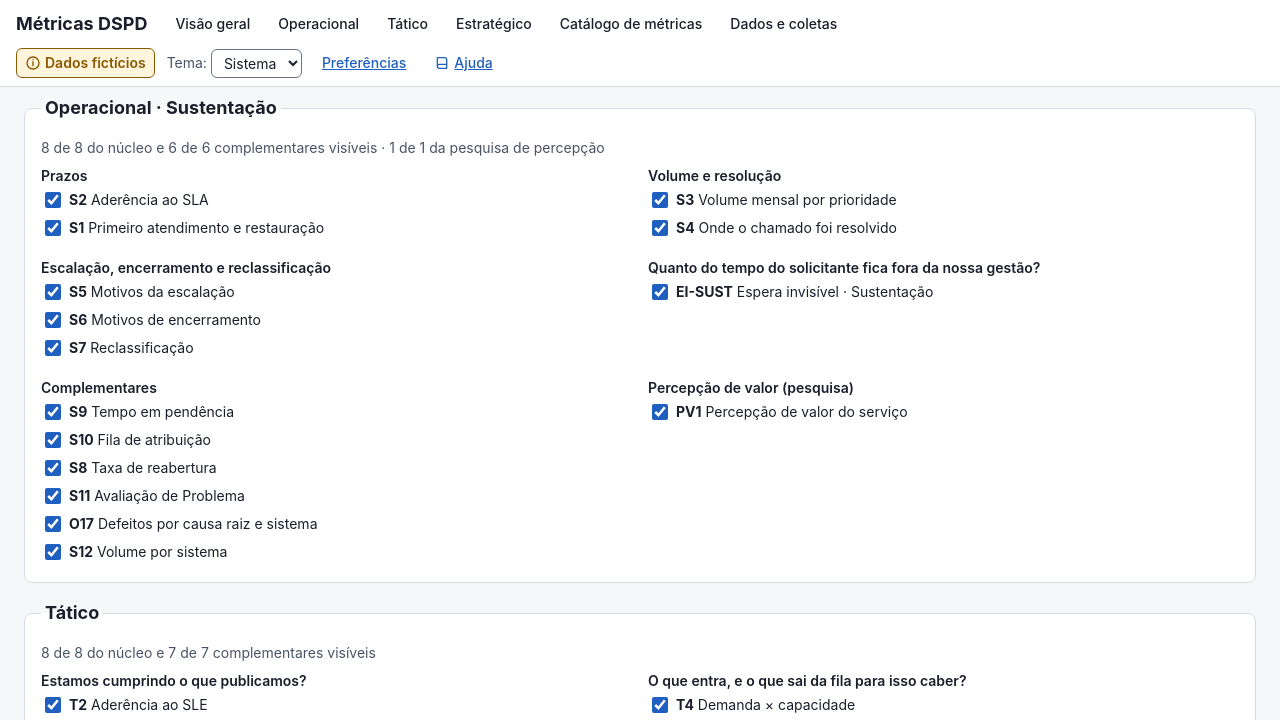
Test case: Preferências com a PV1 › o grupo "Percepção de valor" lista a PV1 só na Sustentação e o contador de cartões fecha
The image size is (1280, 720).
(page scrolled)
Check: the element "Percepção de valor (pesquisa)" is shown, box [648,379,908,420]
Check: the text with test id "contador-sustentacao" shows "1 de 1 da pesquisa de percepção", box [377,139,605,156]
Step 1. Click the checkbox labelled "PV1 Percepção de valor do serviço" → (660, 412), box [652,404,668,420]
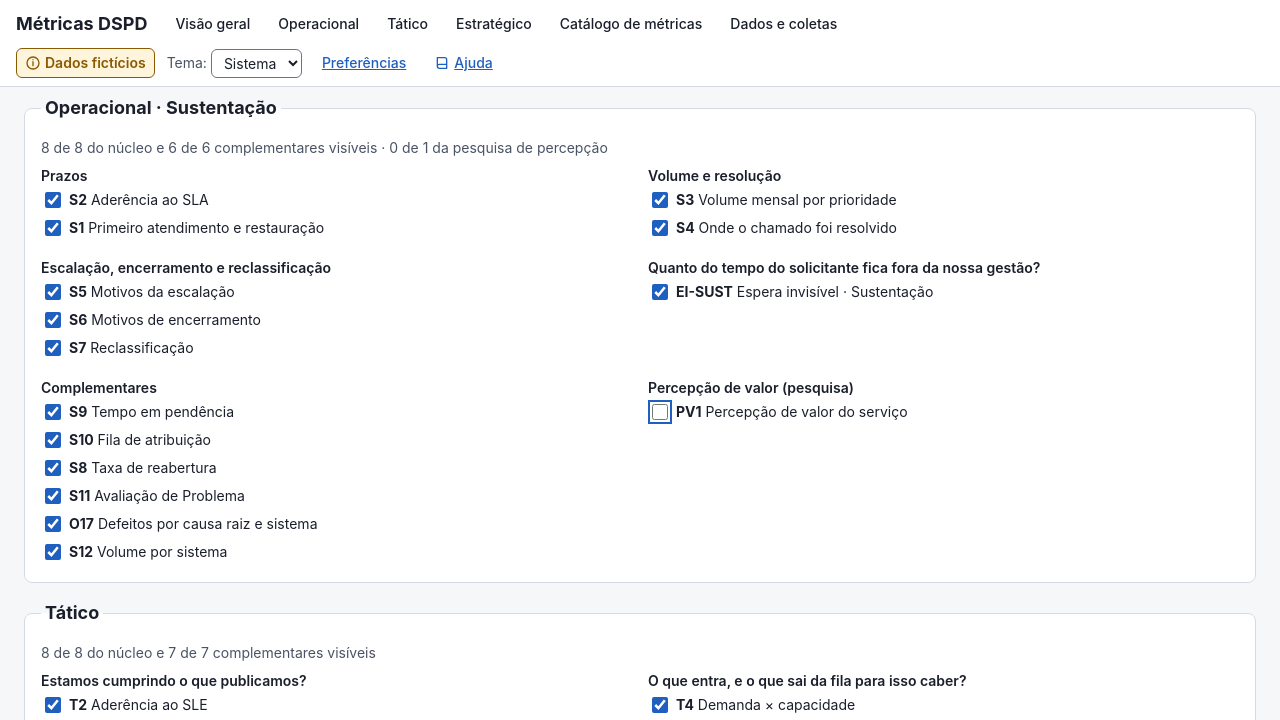
Check: the text with test id "contador-sustentacao" shows "0 de 1 da pesquisa de percepção", box [377,139,608,156]
